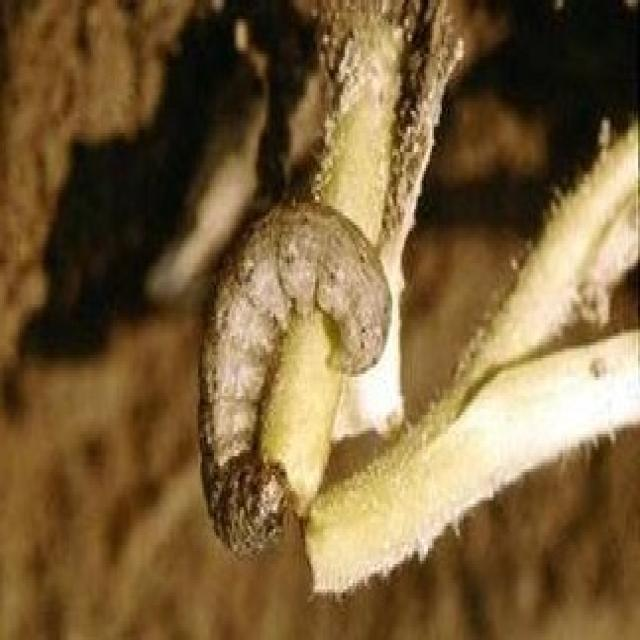black cutworm: (197, 201, 395, 568)
